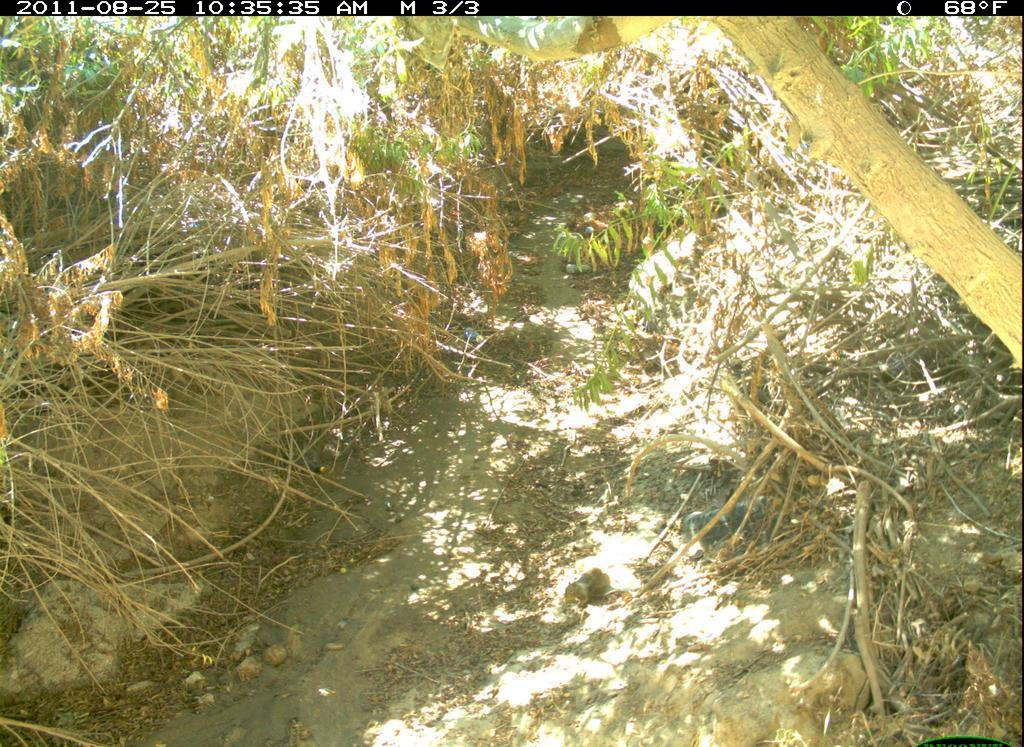squirrel: (562, 564, 619, 612)
